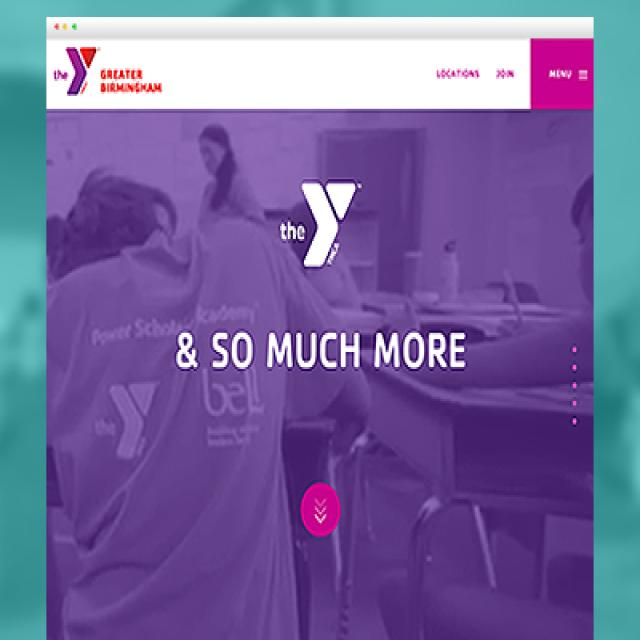Navigation-dots: (570, 343, 579, 428)
buttons: (49, 44, 171, 96), (298, 484, 339, 536), (438, 67, 480, 82), (551, 67, 589, 80), (497, 69, 514, 80)
text: (177, 332, 472, 374), (300, 179, 357, 271)
